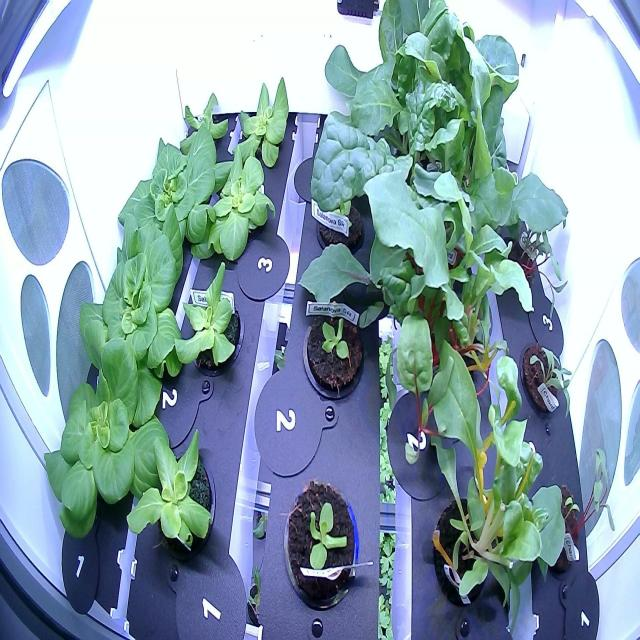young: (29, 341, 171, 554), (70, 204, 192, 412), (111, 119, 226, 292), (124, 416, 226, 574), (274, 470, 368, 618), (187, 144, 274, 268), (170, 252, 246, 390), (298, 278, 366, 412), (225, 69, 305, 169), (168, 85, 230, 167)
